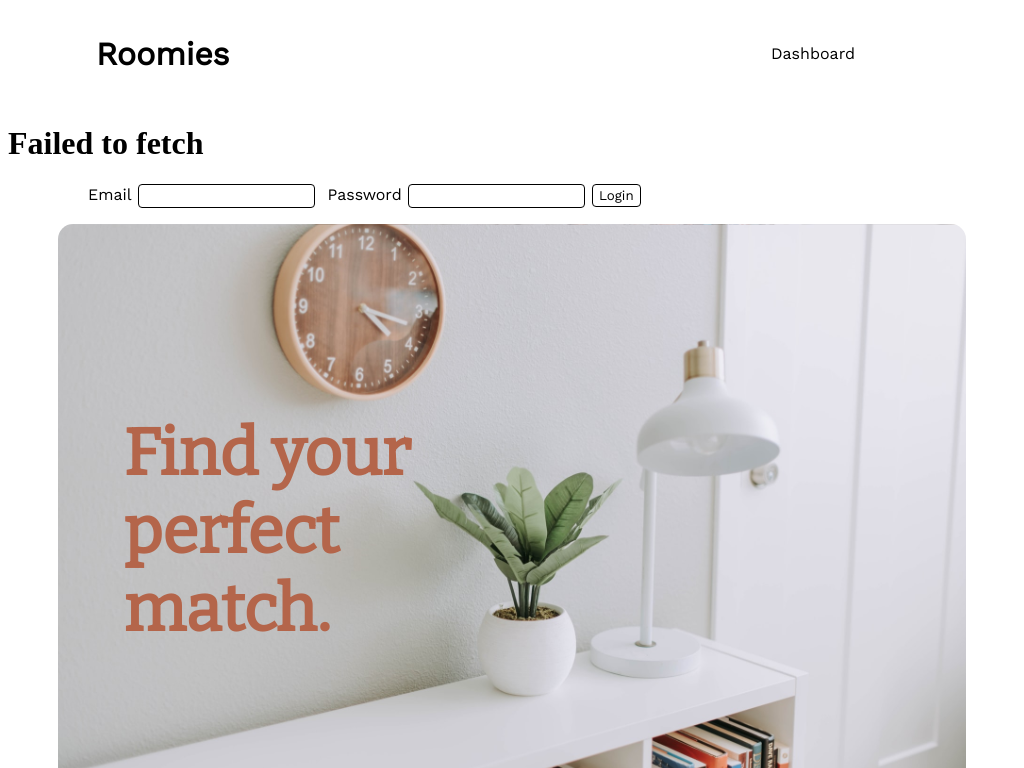
Test: LogInSpec › Should display an error if a user's credentials aren't found
Type "john@email.com" into the field named "userName" at [227, 196], box 138,184 -> 315,208
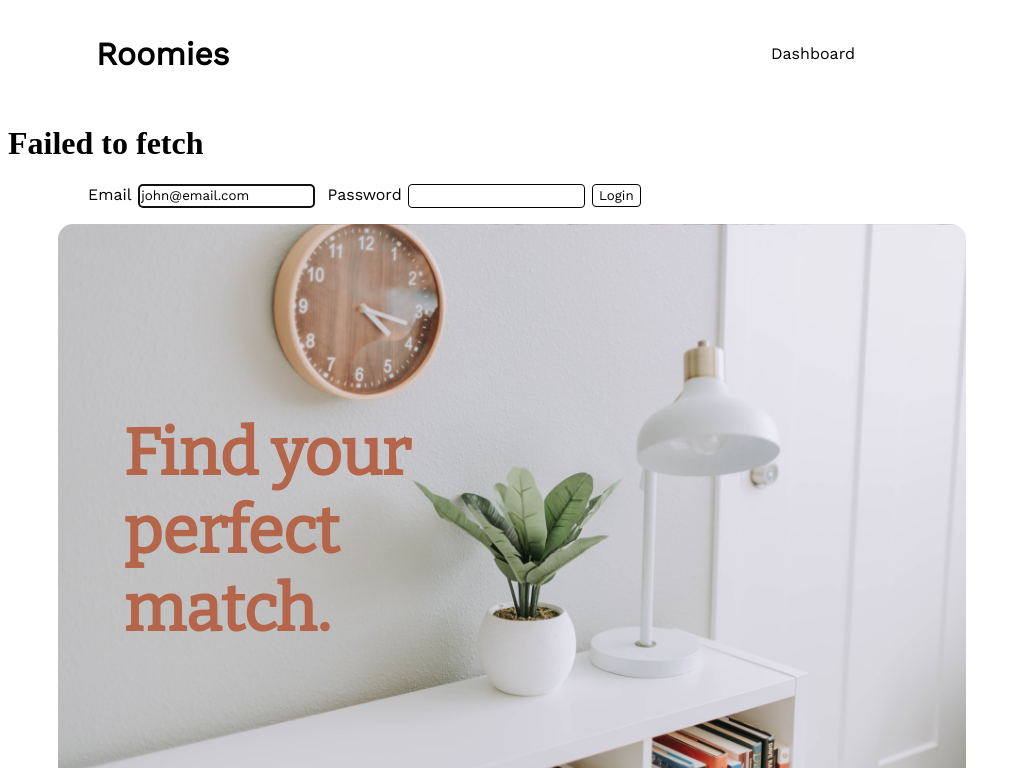
Type "john@example.com" into the password field named "password" at [497, 196], box 408,184 -> 585,208
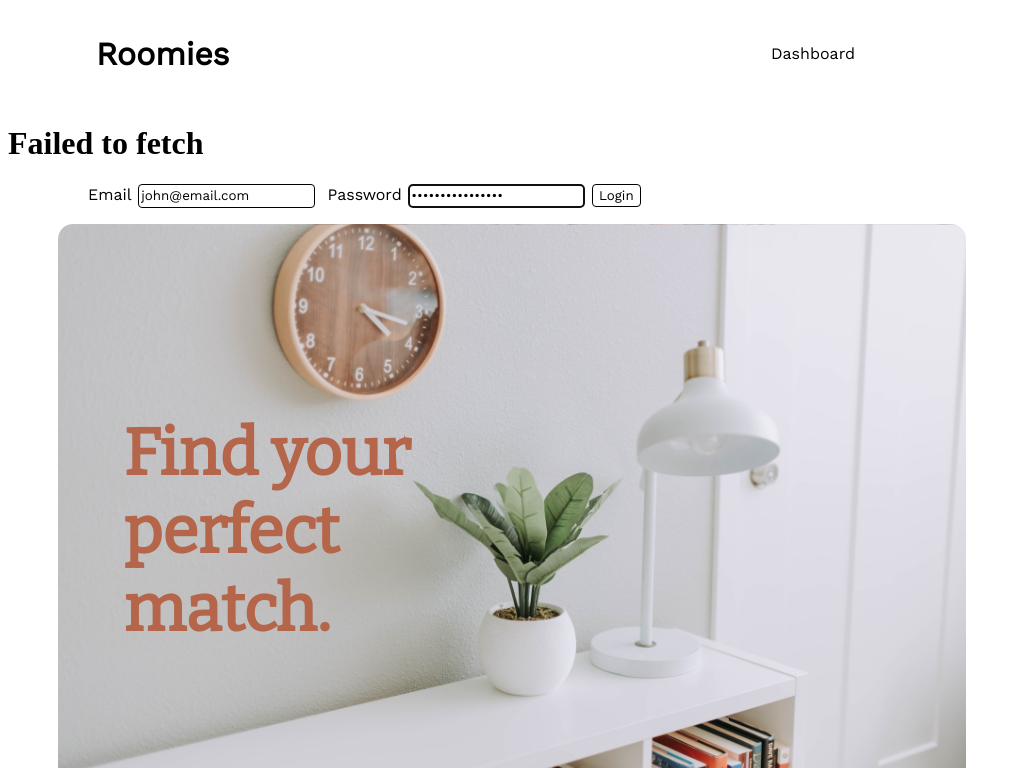
Click the button with class "submit-button" at [617, 196], box 592,184 -> 641,207
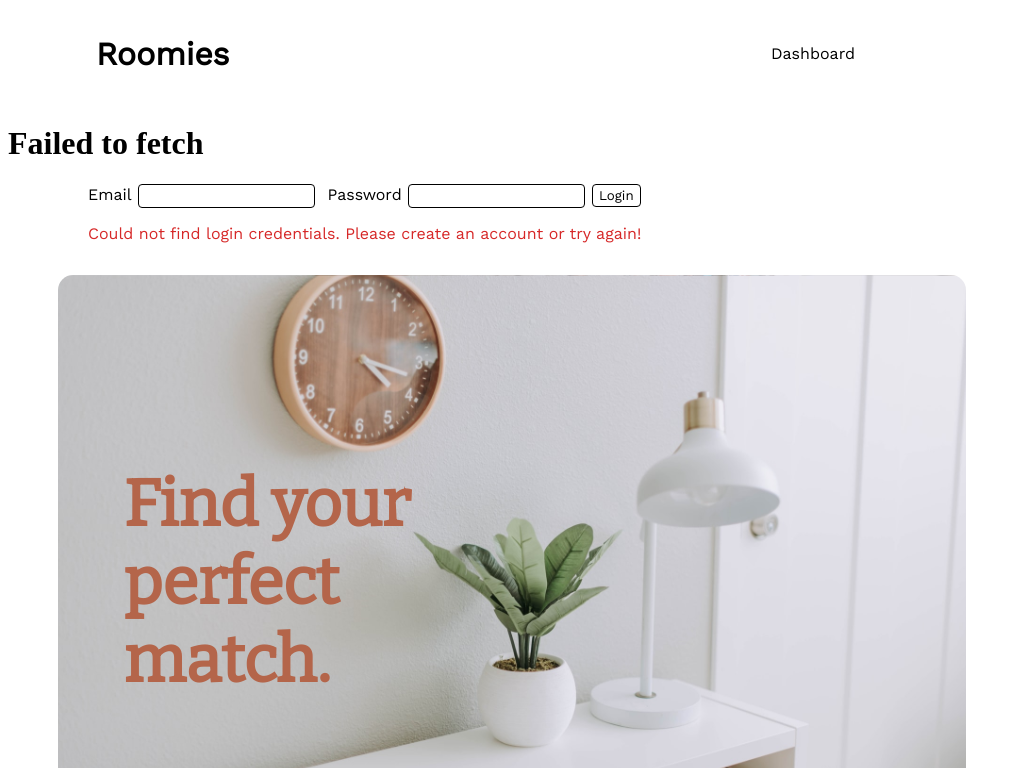
Expected: the number of list items is 1, 771,44 -> 855,63
Expected: the text "Could not find login credentials. Please create an account or try again!" is shown, 88,224 -> 641,243
